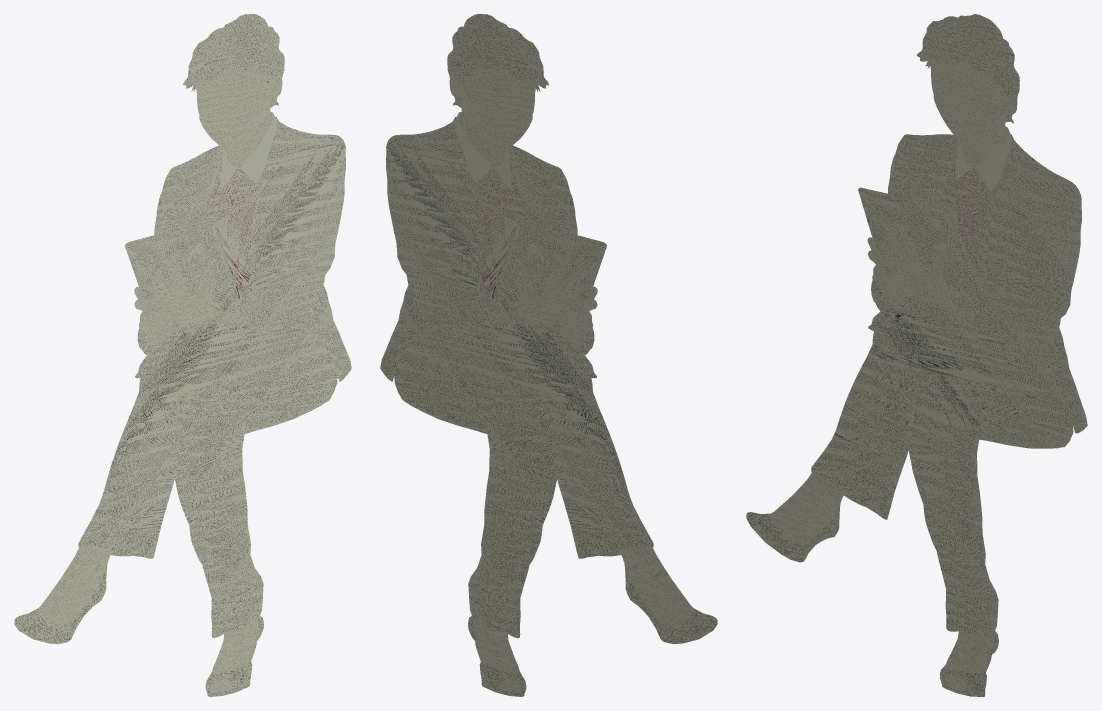
3 views of the same model, side by side, from view 1: azimuth 30°, elevation 25°; view 2: azimuth 150°, elevation 25°; view 3: azimuth 330°, elevation 25° (orthographic).
Visible parts, largest first — view 1: Component_23 (×13); view 2: Component_23 (×13); view 3: Component_23 (×13).
Boxes of the visible parts, x1,y1,x2,y2 form: Component_23 (×13): (14, 14, 351, 696); Component_23 (×13): (380, 14, 717, 696); Component_23 (×13): (746, 14, 1087, 696).
Bounding box in the file's own units: 28.94 × 2.13e-14 × 55.39.
